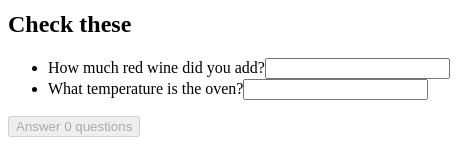
Test: GapsPanel › sends once however often the button is clicked while the apply is in flight
The width and height of the screenshot is (467, 160).
Later steps or results of the test are not shown.
Step 1. Type "150ml" into the field labelled "How much red wine did you add?" → (357, 68), box [265,58,450,79]
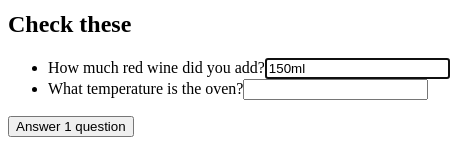
Step 2. Click the button → (71, 126), box [8,116,134,137]
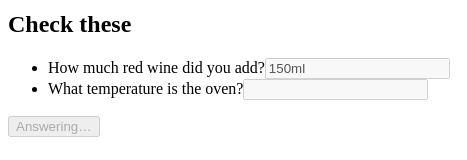
Step 3. Click the button → (54, 126), box [8,116,100,137]
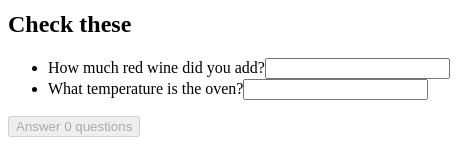
expect the button is disabled: met, box [8,116,140,137]
expect the field labelled "What temperature is the oven?" is enabled: met, box [244,79,428,100]
